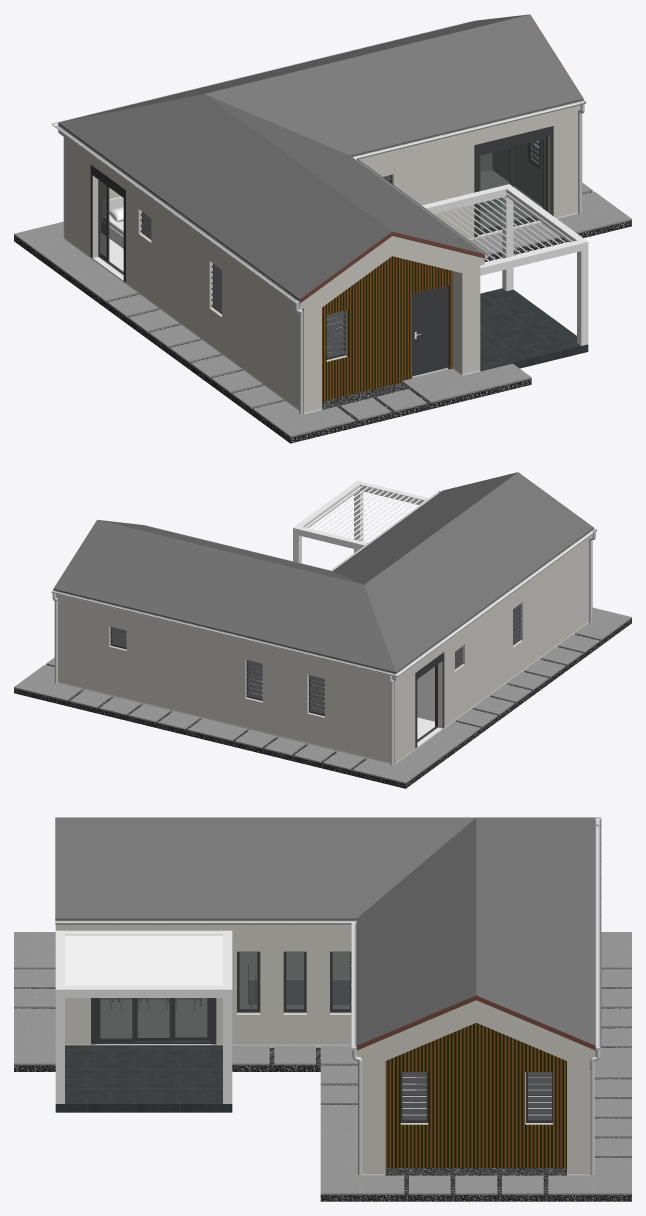
The model's file is TRADIHOME74.glb.
3 views of the same model, one above another, from view 1: azimuth 30°, elevation 25°; view 2: azimuth 150°, elevation 25°; view 3: azimuth 270°, elevation 25° (orthographic). The views are drawn at different scales.
Parts seen in each view (by area): view 1: Geometry132_Toit1_0, Geometry133_Toit1_0, Geometry4_Murs_0, Geometry21_Murs_0, Geometry131_Toit1_0, Geometry669_sol pergola_0, Geometry171_sol_0, Geometry26_vitres_0, Geometry111_dalles_0, Geometry12_porte_0, Geometry134_Toit1_0, Geometry100_dalles_0 (+36 smaller); view 2: Geometry15_Murs_0, Geometry134_Toit1_0, Geometry132_Toit1_0, Geometry4_Murs_0, Geometry131_Toit1_0, Geometry171_sol_0, Geometry111_dalles_0, Geometry680_volet pergola_0, Geometry133_Toit1_0, Geometry167_Murs_0, Geometry98_sol int_0, Geometry175_goutieres_0 (+27 smaller); view 3: Geometry131_Toit1_0, Geometry134_Toit1_0, Geometry133_Toit1_0, Geometry5_Murs_0, Geometry669_sol pergola_0, Geometry680_volet pergola_0, Geometry98_sol int_0, Geometry171_sol_0, Geometry112_dalles_0, Geometry14_vitres_0, Geometry139_Murs_0, Geometry141_Murs_0 (+49 smaller).
Boxes of the visible parts, <box> form: Geometry132_Toit1_0: <box>58,94,391,300</box>; Geometry133_Toit1_0: <box>205,14,583,156</box>; Geometry4_Murs_0: <box>65,138,309,412</box>; Geometry21_Murs_0: <box>363,114,575,238</box>; Geometry131_Toit1_0: <box>205,94,483,253</box>; Geometry669_sol pergola_0: <box>480,288,588,371</box>; Geometry171_sol_0: <box>14,191,631,443</box>; Geometry26_vitres_0: <box>480,139,543,229</box>; Geometry111_dalles_0: <box>14,221,137,301</box>; Geometry12_porte_0: <box>412,285,448,376</box>; Geometry134_Toit1_0: <box>61,14,528,121</box>; Geometry100_dalles_0: <box>402,363,531,402</box>; Geometry15_Murs_0: <box>58,601,389,762</box>; Geometry134_Toit1_0: <box>53,520,395,673</box>; Geometry132_Toit1_0: <box>364,472,593,673</box>; Geometry4_Murs_0: <box>390,545,588,763</box>; Geometry131_Toit1_0: <box>332,472,517,584</box>; Geometry171_sol_0: <box>14,618,631,788</box>; Geometry111_dalles_0: <box>352,721,480,783</box>; Geometry680_volet pergola_0: <box>305,485,424,542</box>; Geometry133_Toit1_0: <box>99,520,362,584</box>; Geometry167_Murs_0: <box>56,594,395,680</box>; Geometry98_sol int_0: <box>58,622,588,764</box>; Geometry175_goutieres_0: <box>51,590,397,676</box>; Geometry131_Toit1_0: <box>55,817,475,920</box>; Geometry134_Toit1_0: <box>476,817,595,1045</box>; Geometry133_Toit1_0: <box>357,818,476,1045</box>; Geometry5_Murs_0: <box>65,930,351,1044</box>; Geometry669_sol pergola_0: <box>55,1045,232,1112</box>; Geometry680_volet pergola_0: <box>65,935,222,985</box>; Geometry98_sol int_0: <box>65,952,590,1175</box>; Geometry171_sol_0: <box>14,988,631,1201</box>; Geometry112_dalles_0: <box>320,1105,404,1194</box>; Geometry14_vitres_0: <box>100,998,207,1039</box>; Geometry139_Murs_0: <box>476,1000,590,1070</box>; Geometry141_Murs_0: <box>362,1000,476,1070</box>.
Bounding box in the file's own units: 13.3 × 4.49 × 13.3.
39 materials, 3 textured.
